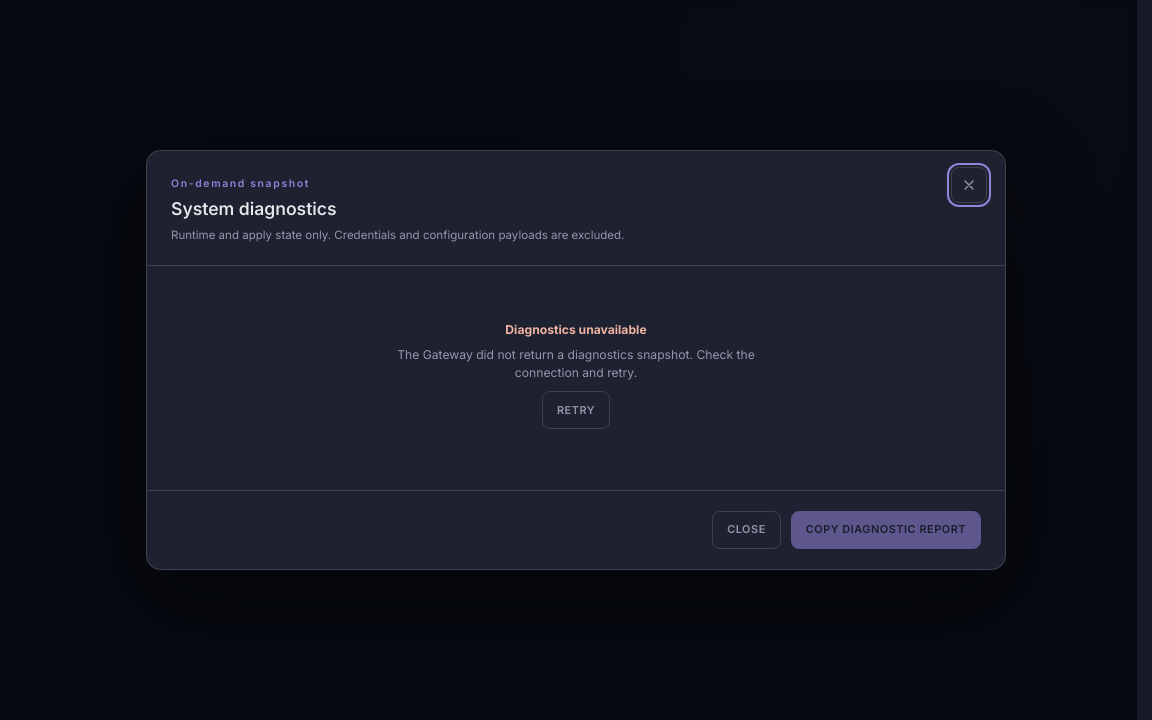
Test: DiagnosticsDialog › shows request failures and retries without remounting
The width and height of the screenshot is (1152, 720).
expect the message shows "Diagnostics unavailable": met, box [505,322,647,337]
Click the button "Retry" at (576,410), box [542,391,610,429]
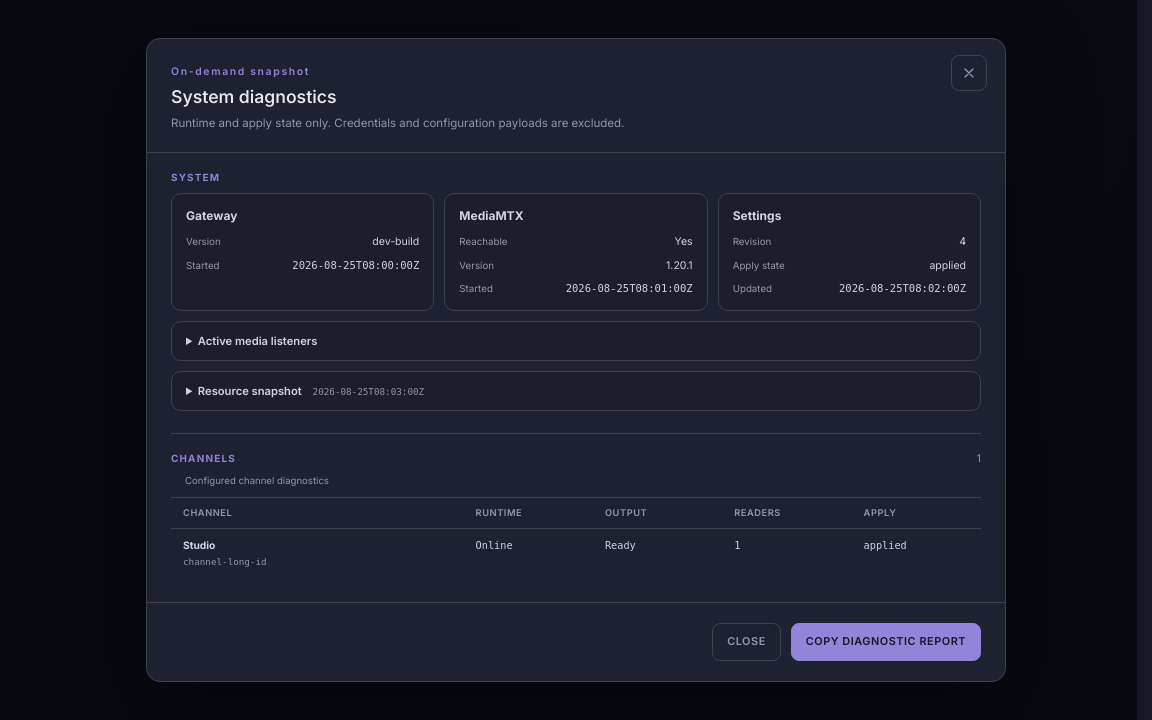
expect the text "1.20.1" is shown: met, box [666,259,693,272]
